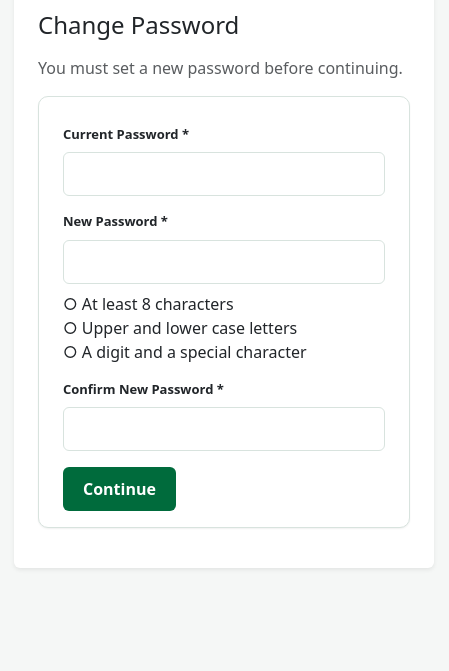
it: ChangePassword › blocks submission when the confirmation does not match
Type "DevPass123!" into the password field labelled "Current Password *". click: (224, 174)
box: [63, 152, 385, 196]
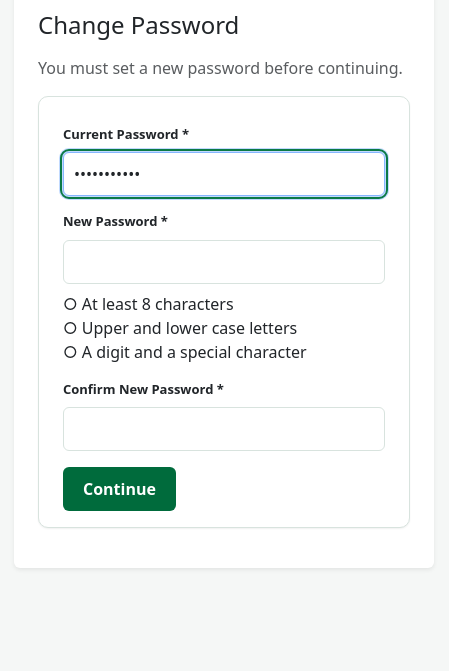
Type "NewOnboard456!" into the password field labelled "New Password *". click: (224, 262)
box: [63, 240, 385, 284]
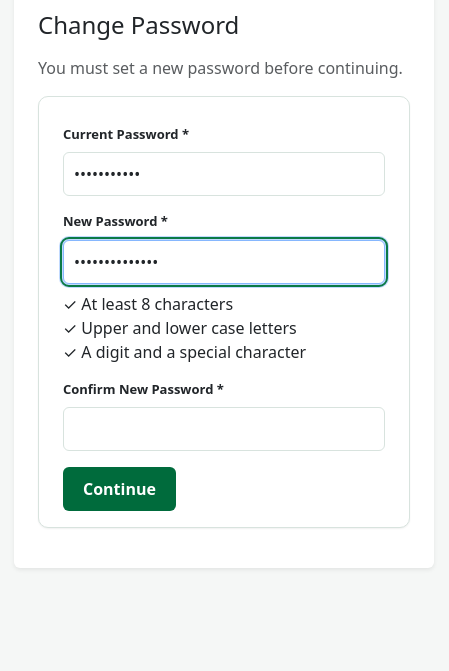
Type "Mismatch789!" into the password field labelled "Confirm New Password *". click: (224, 429)
box: [63, 407, 385, 451]
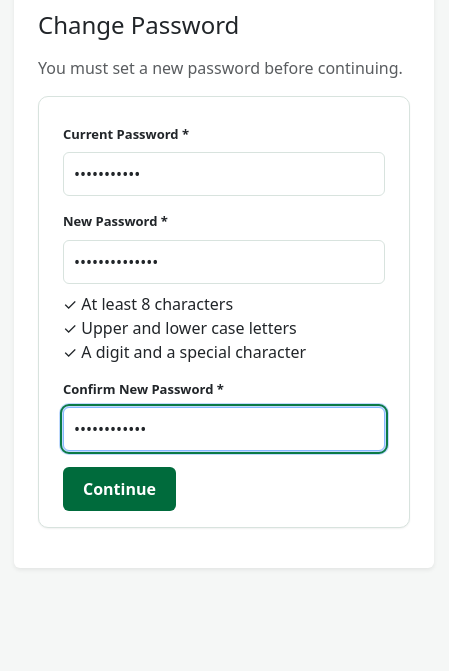
Click the button "Continue". click: (119, 489)
box: [63, 467, 176, 511]
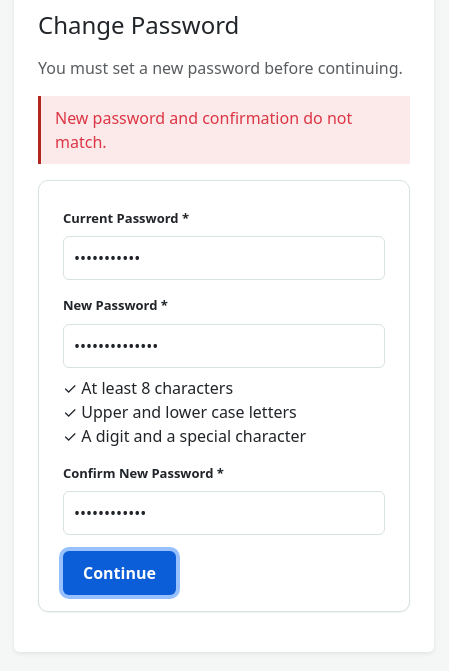
Result: the text "New password and confirmation do not match." is shown at [38, 96, 410, 164]
